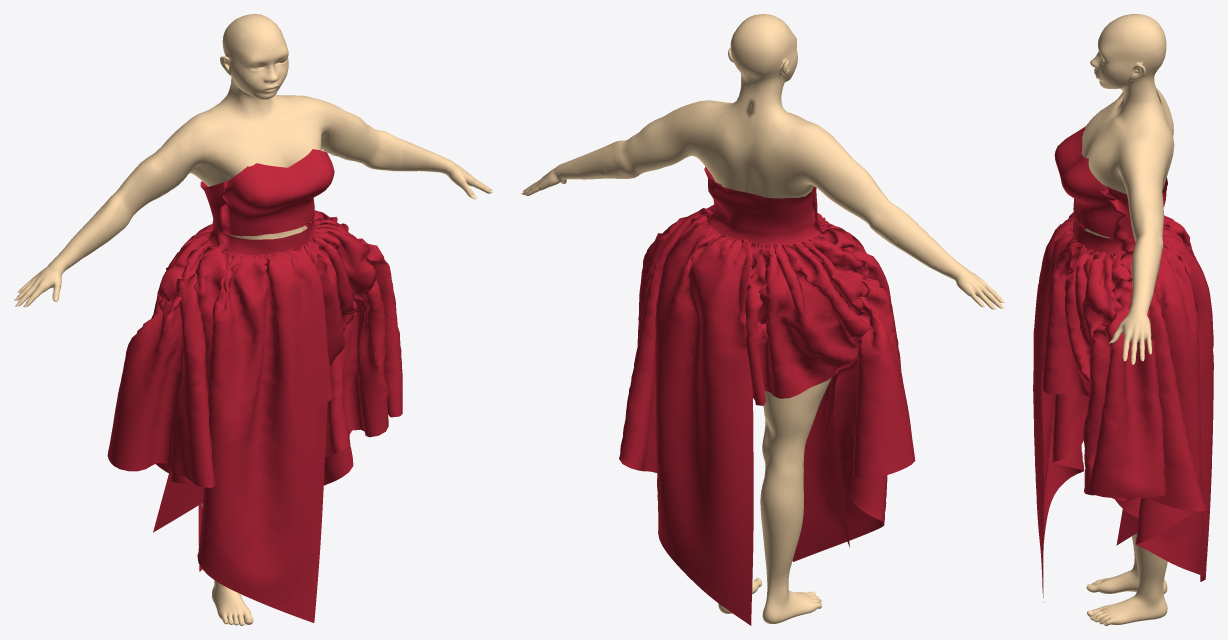
The model's file is dress2.glb.
The picture shows the model from 3 angles, left to right: view 1: azimuth 30°, elevation 25°; view 2: azimuth 150°, elevation 25°; view 3: azimuth 270°, elevation 25°; orthographic projection.
Visible parts, largest first — view 1: Project 1, Body; view 2: Project 1, Body; view 3: Project 1, Body.
Boxes of the visible parts, left/top/right/bottom form: Project 1: left=107, top=149, right=402, bottom=622; Body: left=16, top=14, right=492, bottom=625; Project 1: left=619, top=167, right=915, bottom=625; Body: left=523, top=14, right=1001, bottom=623; Project 1: left=1033, top=126, right=1213, bottom=602; Body: left=1081, top=14, right=1174, bottom=625.
Size of the model in its own units: 1.58 by 1.85 by 0.5151.
